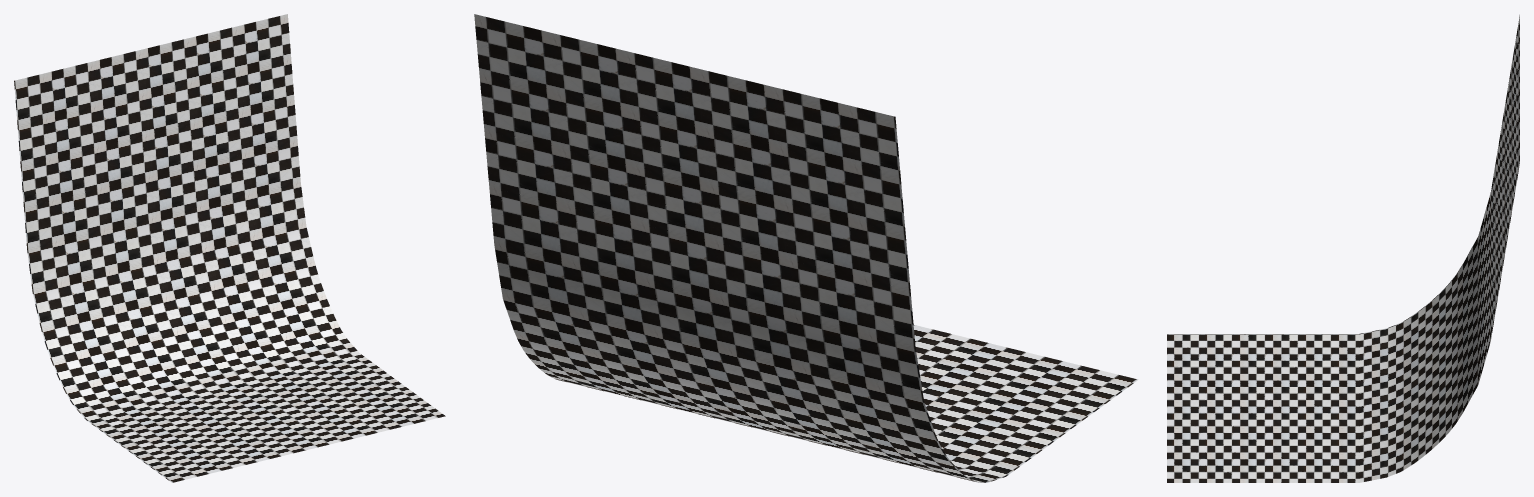
The model's file is curved-test-plane-003.fbx.
The picture shows the model from 3 angles, left to right: view 1: azimuth 30°, elevation 25°; view 2: azimuth 150°, elevation 25°; view 3: azimuth 270°, elevation 25°; orthographic projection. The views are drawn at different scales.
Visible parts, largest first — view 1: Plane.001; view 2: Plane.001; view 3: Plane.001.
Boxes of the visible parts, x1,y1,x2,y2 form: Plane.001: (14, 14, 445, 482); Plane.001: (474, 14, 1138, 482); Plane.001: (1167, 15, 1519, 482).
Size of the model in its own units: 500 by 500 by 500.
